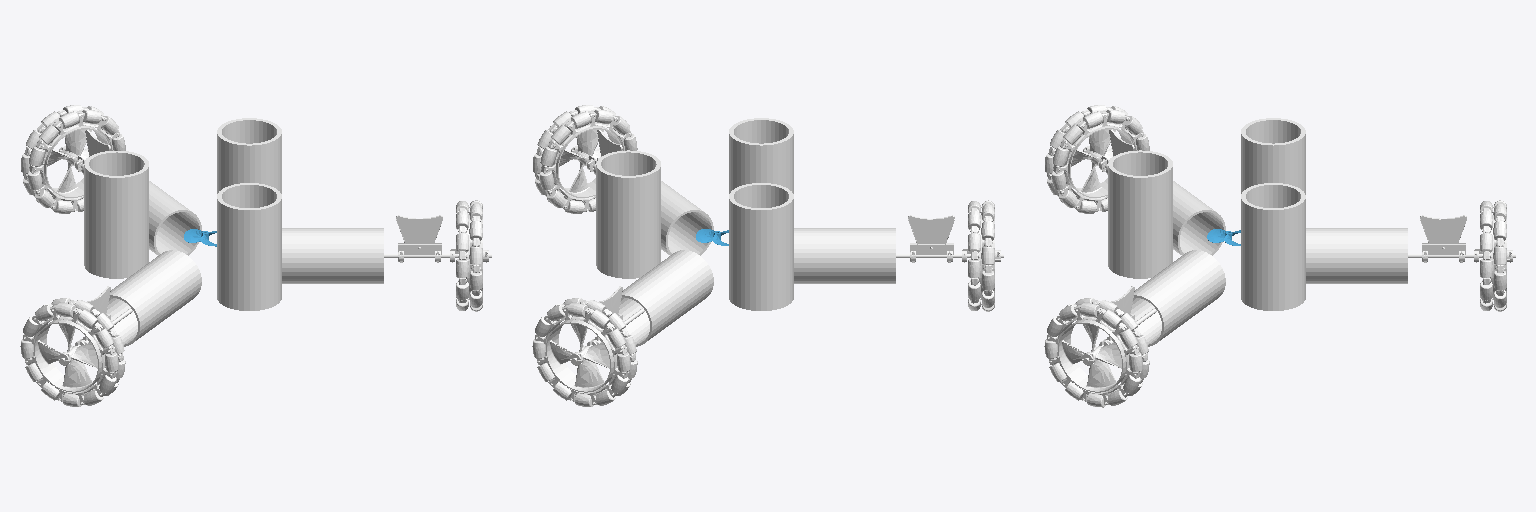
URDF robot description (underwater):

<robot name="underwater" xmlns:xacro="http://www.ros.org/wiki/xacro">

    <!-- * * * Color Definitions * * * -->
    

    <material name="white">
        <color rgba="1 1 1 1"/>
    </material>

    <material name="green2">
        <color rgba="0.8 0.9 0.8 0.9"/>
    </material> 

    <material name="red">
        <color rgba="0.8 0 0 1"/>
    </material>

    <material name="gray">
        <color rgba="0.5 0.5 0.5 0.9"/>
    </material>

    <material name="transparent">
        <color rgba="1 1 1 0.4"/>
    </material>

    <material name="full_transparent">
        <color rgba="1 1 1 0"/>
    </material>

    <!-- * * * Link Definitions * * * -->

    <!-- mesh files -->
    
    <link name="robot_base_link">
        
        <inertial>
            <origin xyz="0 0 0" rpy="0 0 0"/>
            <mass value="5.99" />
            <inertia ixx="0.08319857" ixy="0.0008657224" ixz="0.0009579166" iyy="0.08357262" iyz="0.0001832366" izz="0.12186"/>
        </inertial>
        
        <collision>
            <origin xyz="0 0 .01" rpy="0 0 0"/>
            <geometry>
                <cylinder radius=".25" length="0.11"/>
            </geometry>
        </collision>

        <visual>
            <origin rpy="0 0 0" xyz="0 0 -.0976"/>
            <geometry>
                <mesh filename="package://underwater_sim/models/meshes/robot/MainBody.dae" scale="0.001 0.001 0.001"/>
            </geometry>
            <material name="white"/>
        </visual>
    </link> 

    <link name="center_link">
        <inertial>
            <origin xyz="0 0 0" rpy="0 0 0"/>
            <mass value="0.0001" />
            <inertia ixx="0.0" ixy="0.0" ixz="0.0" iyy="0.0" iyz="0.0" izz="0.0"/>
        </inertial>
        <visual>
            <origin rpy="0 0 0" xyz="-0.0302 -0.03215 -0.018"/>
            <geometry>
                <mesh filename="package://underwater_sim/models/meshes/robot/CentralPropeller.dae" scale="0.001 0.001 0.001"/>
            </geometry>
            <material name="black"/>
        </visual>

    </link> 
    


    <link name="shaft1_link">
        <visual>
            <origin rpy="0 0 3.1415" xyz="0 -.09 -.034"/>
            <geometry>
                <mesh filename="package://underwater_sim/models/meshes/robot/Shaft.dae" scale="0.001 0.001 0.001"/>
            </geometry>
            <material name="white"/>
        </visual>
    </link> 

    <link name="shaft2_link">
        <visual>
            <origin rpy="0 0 3.1415" xyz="0 -.09 -.034"/>
            <geometry>
                <mesh filename="package://underwater_sim/models/meshes/robot/Shaft.dae" scale="0.001 0.001 0.001"/>
            </geometry>
            <material name="white"/>
        </visual>
    </link>  

    <link name="shaft3_link">
        <visual>
            <origin rpy="0 0 3.1415" xyz="0 -.09 -.034"/>
            <geometry>
                <mesh filename="package://underwater_sim/models/meshes/robot/Shaft.dae" scale="0.001 0.001 0.001"/>
            </geometry>
            <material name="white"/>
        </visual>
    </link>

    <link name="cylinder1_link">
        <collision>
            <origin xyz="0 0 .12" rpy="0 0 0"/>
            <geometry>
                <cylinder radius="0.045" length="0.09"/>
            </geometry>
        </collision>
        <visual>
            <origin rpy="0 0 0" xyz="0 0 -.014"/>
            <geometry>
                <mesh filename="package://underwater_sim/models/meshes/robot/Cylinder.dae" scale="0.001 0.001 0.001"/>
            </geometry>
            <material name="transparent"/>
        </visual>
        
    </link> 
    <link name="cylinder2_link">
        <collision>
            <origin xyz="0 0 .12" rpy="0 0 0"/>
            <geometry>
                <cylinder radius="0.045" length="0.09"/>
            </geometry>
        </collision>
        <visual>
            <origin rpy="0 0 0" xyz="0 0 -.014"/>
            <geometry>
                <mesh filename="package://underwater_sim/models/meshes/robot/Cylinder.dae" scale="0.001 0.001 0.001"/>
            </geometry>
            <material name="transparent"/>
        </visual>
    </link>

    <link name="cylinder3_link">
        <collision>
            <origin xyz="0 0 .12" rpy="0 0 0"/>
            <geometry>
                <cylinder radius="0.045" length="0.09"/>
            </geometry>
        </collision>
        <visual>
            <origin rpy="0 0 0" xyz="0 0  -.014"/>
            <geometry>
                <mesh filename="package://underwater_sim/models/meshes/robot/Cylinder.dae" scale="0.001 0.001 0.001"/>
            </geometry>
            <material name="transparent"/>
        </visual>
    </link> 

    <link name="motorcylinder1_link">

        <visual>
            <origin rpy="0 0 0" xyz="0 .244 0.00"/>
            <geometry>
                <mesh filename="package://underwater_sim/models/meshes/robot/TubeMotor.dae" scale="0.001 0.001 0.001"/>
            </geometry>
            <material name="transparent"/>
        </visual>
    </link> 

    <link name="motorcylinder2_link">

        <visual>
            <origin rpy="0 0 -2.094" xyz=".2114 -.122 0"/>
            <geometry>
                <mesh filename="package://underwater_sim/models/meshes/robot/TubeMotor.dae" scale="0.001 0.001 0.001"/>
            </geometry>
            <material name="transparent"/>
        </visual>
    </link> 

    <link name="motorcylinder3_link">

        <visual>
            <origin rpy="0 0 2.094" xyz="-.2114 -.122 0"/>
            <geometry>
                <mesh filename="package://underwater_sim/models/meshes/robot/TubeMotor.dae" scale="0.001 0.001 0.001"/>
            </geometry>
            <material name="transparent"/>
        </visual>
    </link>


    <link name="wheel1_link">
        
        <inertial>
            <origin xyz="0 0 0" rpy="0 0 0"/>
            <mass value="0.361" />
            <inertia ixx="0.0007561942" ixy="0.0" ixz="0.0" iyy="0.001441249" iyz="0.0" izz="0.0007561973"/>
        </inertial>
        <collision>
            <origin rpy="1.5708 0 0" xyz="0 0 0"/>
            <geometry>
                <cylinder radius="0.08" length="0.03"/>
            </geometry>
        </collision>
    </link>
    <gazebo reference="wheel1_link">
        <kp>100000.0</kp>
        <kd>1.0</kd>
        <mu1>10.0</mu1>
        <mu2>.4</mu2>
        <fdir1>0 1 0</fdir1>
        <material>Gazebo/Green</material>
    </gazebo>
    <link name="wheel2_link">
        <inertial>
            <origin xyz="0 0 0" rpy="0 0 0"/>
            <mass value="0.361" />
            <inertia ixx="0.0007561942" ixy="0.0" ixz="0.0" iyy="0.001441249" iyz="0.0" izz="0.0007561973"/>
        </inertial>
        <collision>
            <origin rpy="1.5708 0 0" xyz="0 0 0"/>
            <geometry>
                <cylinder radius="0.08" length="0.03"/>
            </geometry>
        </collision>
    </link>
    <gazebo reference="wheel2_link">
        <kp>100000.0</kp>
        <kd>1.0</kd>
        <mu1>10.00</mu1>
        <mu2>.4</mu2>
        <fdir1>0 1 0</fdir1>    
        <material>Gazebo/Green</material>
    </gazebo>


    <link name="wheel3_link">
        <inertial>
            <origin xyz="0 0 0" rpy="0 0 0"/>
            <mass value="0.361" />
            <inertia ixx="0.0007561942" ixy="0.0" ixz="0.0" iyy="0.001441249" iyz="0.0" izz="0.0007561973"/>
        </inertial>
        <collision>
            <origin rpy="1.5708 0 0" xyz="0 0 0"/>
            <geometry>
                <cylinder radius="0.08" length="0.03"/>
            </geometry>
        </collision>
    </link>
    <gazebo reference="wheel3_link">
        <kp>100000.0</kp>
        <kd>1.0</kd>
        <mu1>10.0</mu1>
        <mu2>.4</mu2>
        <fdir1>0 1 0</fdir1> 
        <material>Gazebo/Green</material>
    </gazebo> 
    
    <!-- * * * Joint Definitions * * * -->

    <joint name="center_motor" type="continuous">
        <parent link="robot_base_link"/>
        <child link="center_link"/>
        <origin xyz="0.000 0 0.0001" rpy="0 0 0"/>
        <axis xyz="0 0 1"/>
    </joint>

    <joint name="motor1" type="continuous">
        <parent link="robot_base_link"/>
        <child link="shaft1_link"/>
        <origin xyz="0 0.245 0" rpy="0 0 0"/>
        <axis xyz="0 1 0"/>
    </joint>  

    <joint name="motor2" type="continuous">
        <parent link="robot_base_link"/>
        <child link="shaft2_link"/>
        <origin xyz="-.21223 -0.1224 0" rpy="0 0 2.094"/>
        <axis xyz="0 1 0 "/>
    </joint> 
  
    <joint name="motor3" type="continuous">
        <parent link="robot_base_link"/>
        <child link="shaft3_link"/>
        <origin xyz=".21223 -0.1224 0" rpy="0 0 -2.094"/>
        <axis xyz="0 1 0"/>
    </joint>



    <joint name="wheel1_joint" type="fixed">
        <parent link="shaft1_link"/>
        <child link="wheel1_link"/>
        <origin xyz="0 .117 0" rpy="0 0 0"/>
        <limit lower="-1" upper="1" effort="0.0" velocity="0.00"/>
        <axis xyz="0 1 0"/>
   </joint>
 
    <joint name="wheel2_joint" type="fixed">
        <parent link="shaft2_link"/>
        <child link="wheel2_link"/>
        <origin xyz="0 .117 0" rpy="0 0 0"/>
        <limit lower="-1" upper="1" effort="0.0" velocity="0.00"/>
        <axis xyz="0 1 0"/>
   </joint>

    <joint name="wheel3_joint" type="fixed">
        <parent link="shaft3_link"/>
        <child link="wheel3_link"/>
        <origin xyz="0 .117 0" rpy="0 0 0"/>
        <limit lower="-1" upper="1" effort="0.0" velocity="0.00"/>
        <axis xyz="0 1 0"/>
    </joint>

    <joint name="cylinder1_joint" type="fixed">
        <parent link="robot_base_link"/>
        <child link="cylinder1_link"/>
        <origin rpy="0 0 0" xyz=".1048 .0605 -.00"/>
        <limit lower="-1" upper="1" effort="0.0" velocity="0.00"/>
        <axis xyz="0 1 0"/>
    </joint>

    <joint name="cylinder2_joint" type="fixed">
        <parent link="robot_base_link"/>
        <child link="cylinder2_link"/>
        <origin rpy="0 0 0" xyz="-.1048 .0605 -.00"/>
        <limit lower="-1" upper="1" effort="0.0" velocity="0.00"/>
        <axis xyz="0 1 0"/>
    </joint>

    <joint name="cylinder3_joint" type="fixed">
        <parent link="robot_base_link"/>
        <child link="cylinder3_link"/>
        <origin rpy="0 0 0" xyz="0 -.121 0"/>
        <limit lower="-1" upper="1" effort="0.0" velocity="0.00"/>
        <axis xyz="0 1 0"/>
    </joint>

    <joint name="motorcylinder1_joint" type="fixed">
        <parent link="robot_base_link"/>
        <child link="motorcylinder1_link"/>
        <origin xyz="0 0 0" rpy="0 0 0"/>
        <limit lower="-1" upper="1" effort="0.0" velocity="0.00"/>
        <axis xyz="0 1 0"/>
    </joint>

    <joint name="motorcylinder2_joint" type="fixed">
        <parent link="robot_base_link"/>
        <child link="motorcylinder2_link"/>
        <origin xyz="0 0 0" rpy="0 0 0"/>
        <limit lower="-1" upper="1" effort="0.0" velocity="0.00"/>
        <axis xyz="0 1 0"/>
    </joint>

    <joint name="motorcylinder3_joint" type="fixed">
        <parent link="robot_base_link"/>
        <child link="motorcylinder3_link"/>
        <origin xyz="0 0 0" rpy="0 0 0"/>
        <limit lower="-1" upper="1" effort="0.0" velocity="0.00"/>
        <axis xyz="0 1 0"/>
    </joint>


    <gazebo reference="cylinder1_link">
        <visual name='visual'>
        <material>
          <lighting>1</lighting>
          <script>
            <uri>file:/[local-path]/scripts/gazebo.material</uri>
            <name>Gazebo/Grey</name>
          </script>
          <ambient>0.3 0.3 0.3 0.4</ambient>
          <diffuse>0.7 0.7 0.7 0.4</diffuse>
          <specular>0.01 0.01 0.01 0.4</specular>
          <emissive>0 0 0 0.4</emissive>
          <shader type='vertex'>
            <normal_map>__default__</normal_map>
          </shader>
        </material>
        <cast_shadows>1</cast_shadows>
        <transparency>0.7</transparency>
        </visual>
    </gazebo>
    <gazebo reference="cylinder2_link">
            <visual name='visual'>
        <material>
          <lighting>1</lighting>
          <script>
            <uri>file:/[local-path]/scripts/gazebo.material</uri>
            <name>Gazebo/Grey</name>
          </script>
          <ambient>0.3 0.3 0.3 0.4</ambient>
          <diffuse>0.7 0.7 0.7 0.4</diffuse>
          <specular>0.01 0.01 0.01 0.4</specular>
          <emissive>0 0 0 0.4</emissive>
          <shader type='vertex'>
            <normal_map>__default__</normal_map>
          </shader>
        </material>
        <cast_shadows>1</cast_shadows>
        <transparency>0.7</transparency>
        </visual>
    </gazebo>
    <gazebo reference="cylinder3_link">
            <visual name='visual'>
        <material>
          <lighting>1</lighting>
          <script>
            <uri>file:/[local-path]/scripts/gazebo.material</uri>
            <name>Gazebo/Grey</name>
          </script>
          <ambient>0.3 0.3 0.3 0.4</ambient>
          <diffuse>0.7 0.7 0.7 0.4</diffuse>
          <specular>0.01 0.01 0.01 0.4</specular>
          <emissive>0 0 0 0.4</emissive>
          <shader type='vertex'>
            <normal_map>__default__</normal_map>
          </shader>
        </material>
        <cast_shadows>1</cast_shadows>
        <transparency>0.7</transparency>
        </visual>
    </gazebo>
    <gazebo reference="motorcylinder1_link">
        <visual name='visual'>
        <material>
          <lighting>1</lighting>
          <script>
            <uri>file:/[local-path]/scripts/gazebo.material</uri>
            <name>Gazebo/Grey</name>
          </script>
          <ambient>0.3 0.3 0.3 0.4</ambient>
          <diffuse>0.7 0.7 0.7 0.4</diffuse>
          <specular>0.01 0.01 0.01 0.4</specular>
          <emissive>0 0 0 0.4</emissive>
          <shader type='vertex'>
            <normal_map>__default__</normal_map>
          </shader>
        </material>
        <cast_shadows>1</cast_shadows>
        <transparency>0.7</transparency>
        </visual>
    </gazebo>
    <gazebo reference="motorcylinder2_link">
            <visual name='visual'>
        <material>
          <lighting>1</lighting>
          <script>
            <uri>file:/[local-path]/scripts/gazebo.material</uri>
            <name>Gazebo/Grey</name>
          </script>
          <ambient>0.3 0.3 0.3 0.4</ambient>
          <diffuse>0.7 0.7 0.7 0.4</diffuse>
          <specular>0.01 0.01 0.01 0.4</specular>
          <emissive>0 0 0 0.4</emissive>
          <shader type='vertex'>
            <normal_map>__default__</normal_map>
          </shader>
        </material>
        <cast_shadows>1</cast_shadows>
        <transparency>0.7</transparency>
        </visual>
    </gazebo>
    <gazebo reference="motorcylinder3_link">
            <visual name='visual'>
        <material>
          <lighting>1</lighting>
          <script>
            <uri>file:/[local-path]/scripts/gazebo.material</uri>
            <name>Gazebo/Grey</name>
          </script>
          <ambient>0.3 0.3 0.3 0.4</ambient>
          <diffuse>0.7 0.7 0.7 0.4</diffuse>
          <specular>0.01 0.01 0.01 0.4</specular>
          <emissive>0 0 0 0.4</emissive>
          <shader type='vertex'>
            <normal_map>__default__</normal_map>
          </shader>
        </material>
        <cast_shadows>1</cast_shadows>
        <transparency>0.7</transparency>
        </visual>
    </gazebo>

    <gazebo>
        <plugin name="test_plug1" filename="libtest_plug.so">
            <linkName>shaft1_link</linkName>
            <jointName>motor1</jointName>
        </plugin>
    </gazebo>
    <gazebo>
        <plugin name="test_plug2" filename="libtest_plug.so">
            <linkName>shaft2_link</linkName>
            <jointName>motor2</jointName>
        </plugin>
    </gazebo>
    <gazebo>
        <plugin name="test_plug3" filename="libtest_plug.so">
            <linkName>shaft3_link</linkName>
            <jointName>motor3</jointName>
        </plugin>
    </gazebo>
    <gazebo>
        <plugin name="center_plug" filename="libcenter_plug.so">
            <linkName>robot_base_link</linkName>
        </plugin>
    </gazebo>


 

</robot> 

--- What the picture shows (computed from the rendered views, not written in the file) ---
3 views of the same robot in one strip: view 1: azimuth 30°, elevation 25°; view 2: azimuth 150°, elevation 25°; view 3: azimuth 270°, elevation 25° (orthographic).
Robot: underwater — 14 links, 13 joints (4 continuous, 9 fixed); root link robot_base_link; default pose: every joint at zero.
Visible links, largest first — view 1: shaft2_link, cylinder3_link, cylinder2_link, shaft1_link, motorcylinder2_link, motorcylinder3_link, shaft3_link, cylinder1_link, motorcylinder1_link; view 2: shaft1_link, cylinder2_link, cylinder1_link, shaft3_link, motorcylinder3_link, motorcylinder1_link, shaft2_link, cylinder3_link, motorcylinder2_link; view 3: shaft3_link, cylinder1_link, cylinder3_link, shaft2_link, motorcylinder1_link, motorcylinder2_link, shaft1_link, cylinder2_link, motorcylinder3_link.
Boxes of the visible links, box(x1,y1,x2,y2) form: shaft2_link: box(20, 286, 132, 406); cylinder3_link: box(217, 183, 281, 310); cylinder2_link: box(84, 151, 148, 278); shaft1_link: box(21, 105, 125, 213); motorcylinder2_link: box(282, 228, 383, 283); motorcylinder3_link: box(107, 250, 201, 346); shaft3_link: box(384, 200, 491, 311); cylinder1_link: box(217, 118, 281, 193); motorcylinder1_link: box(149, 181, 201, 255); shaft1_link: box(532, 286, 644, 406); cylinder2_link: box(729, 183, 793, 310); cylinder1_link: box(596, 150, 660, 278); shaft3_link: box(533, 105, 637, 213); motorcylinder3_link: box(794, 228, 895, 283); motorcylinder1_link: box(619, 250, 713, 346); shaft2_link: box(896, 200, 1003, 311); cylinder3_link: box(729, 118, 793, 193); motorcylinder2_link: box(661, 181, 713, 255); shaft3_link: box(1044, 286, 1156, 407); cylinder1_link: box(1241, 183, 1305, 310); cylinder3_link: box(1108, 150, 1172, 278); shaft2_link: box(1045, 105, 1149, 213); motorcylinder1_link: box(1306, 228, 1407, 283); motorcylinder2_link: box(1131, 250, 1225, 346); shaft1_link: box(1408, 200, 1515, 311); cylinder2_link: box(1241, 118, 1305, 194); motorcylinder3_link: box(1173, 181, 1225, 255).
Bounding box of the posed robot: 0.7278 × 0.6442 × 0.2148 m (x, y, z).
Meshes: 5 distinct files referenced, 10 mesh visuals loaded (4 Collada DAE); not drawn: 1 (reference not matched to a file when rendering).